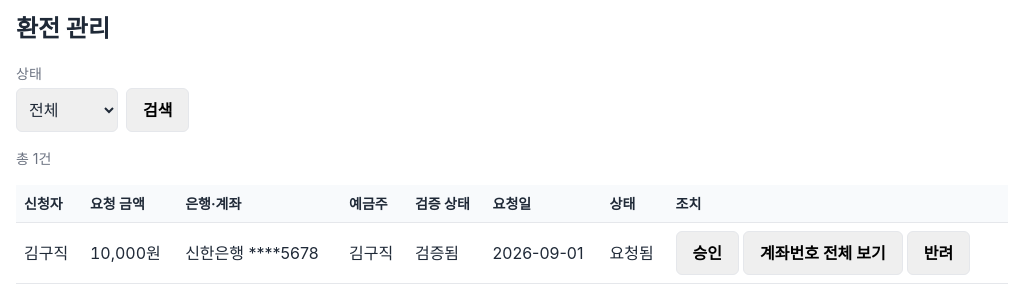
Test: AdminExchangeList › should keep the account number masked until the reveal button is pressed
Expected: the text "11012345678" is not shown
Click the button "계좌번호 전체 보기" at coordinates (823, 253), box top-left (743, 231), bottom-right (903, 275)
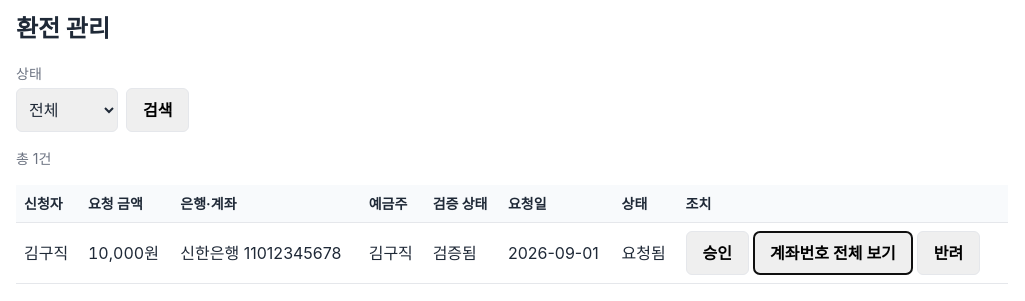
Now the text "11012345678" is shown, box top-left (244, 243), bottom-right (342, 263)
